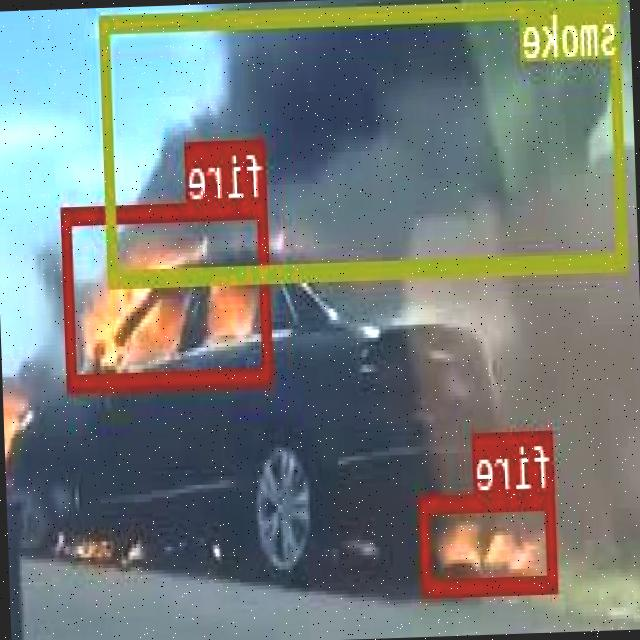fire: (62, 198, 275, 388), (422, 489, 559, 594)
smoke: (100, 0, 627, 282)
